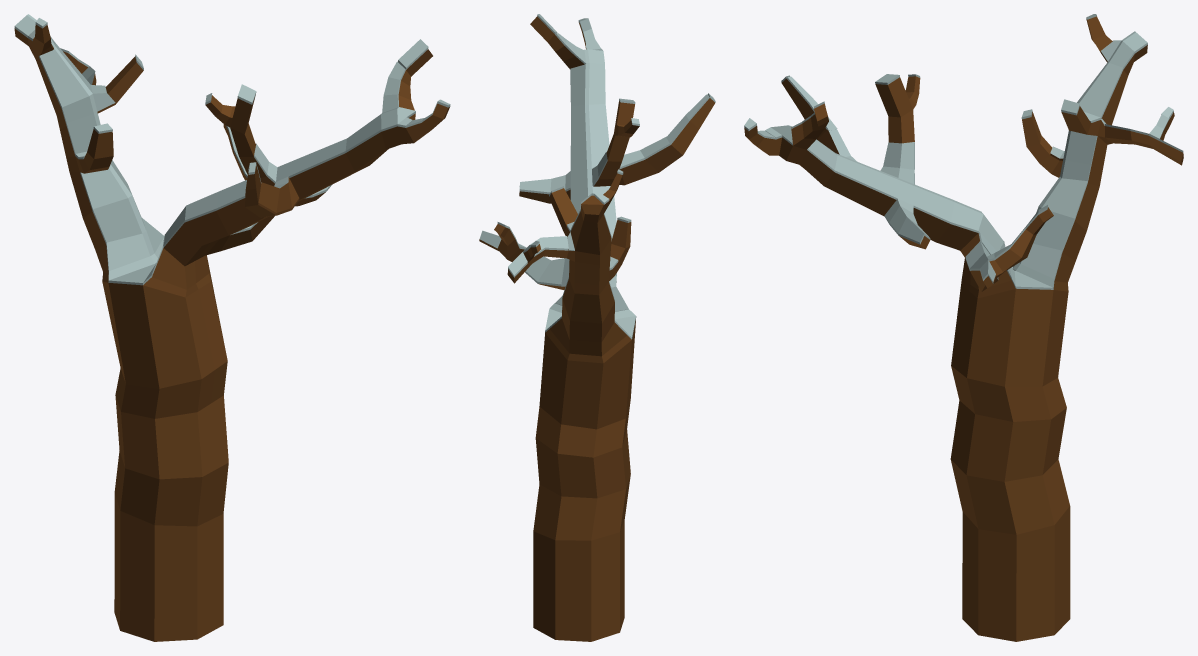
The model's file is 3.Savanna tree.fbx.
3 renders of one model, left to right at view 1: azimuth 30°, elevation 25°; view 2: azimuth 150°, elevation 25°; view 3: azimuth 270°, elevation 25°, orthographic. The views are drawn at different scales.
Parts seen in each view (by area): view 1: Africa tree snowy; view 2: Africa tree snowy; view 3: Africa tree snowy.
Boxes of the visible parts, box(x1,y1,x2,y2) form: Africa tree snowy: box(14, 14, 450, 641); Africa tree snowy: box(479, 14, 715, 641); Africa tree snowy: box(744, 14, 1183, 641).
Bounding box in the file's own units: 166 × 386 × 262.
